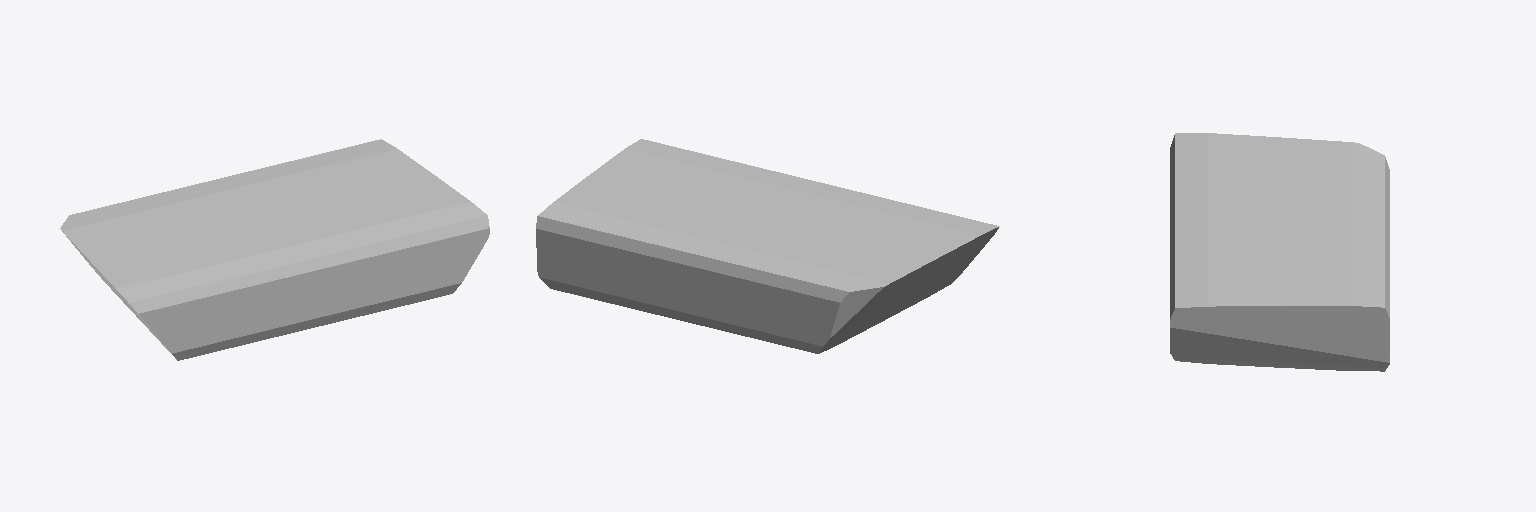
The model's file is torii_broken_029.obj.
3 views of the same model, side by side, from view 1: azimuth 30°, elevation 25°; view 2: azimuth 150°, elevation 25°; view 3: azimuth 270°, elevation 25° (orthographic).
Parts seen in each view (by area): view 1: 鳥居.001_cell.029_鳥居.001_cell.044; view 2: 鳥居.001_cell.029_鳥居.001_cell.044; view 3: 鳥居.001_cell.029_鳥居.001_cell.044.
Part boxes in pixels (left/top/right/bottom): 鳥居.001_cell.029_鳥居.001_cell.044: left=60, top=139, right=489, bottom=360; 鳥居.001_cell.029_鳥居.001_cell.044: left=536, top=139, right=999, bottom=353; 鳥居.001_cell.029_鳥居.001_cell.044: left=1170, top=133, right=1389, bottom=371.
Bounding box in the file's own units: 0.8147 × 0.161 × 0.431.